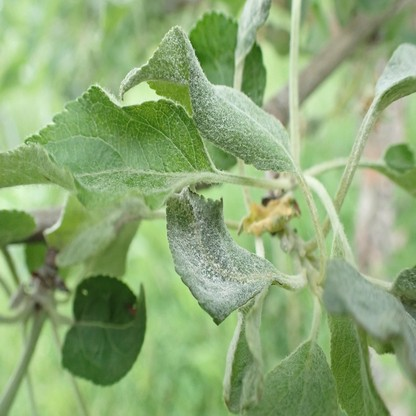powdery_mildew: (1, 83, 213, 198), (121, 26, 295, 166), (166, 187, 274, 324), (223, 319, 342, 416), (323, 256, 416, 379), (375, 46, 416, 98)
